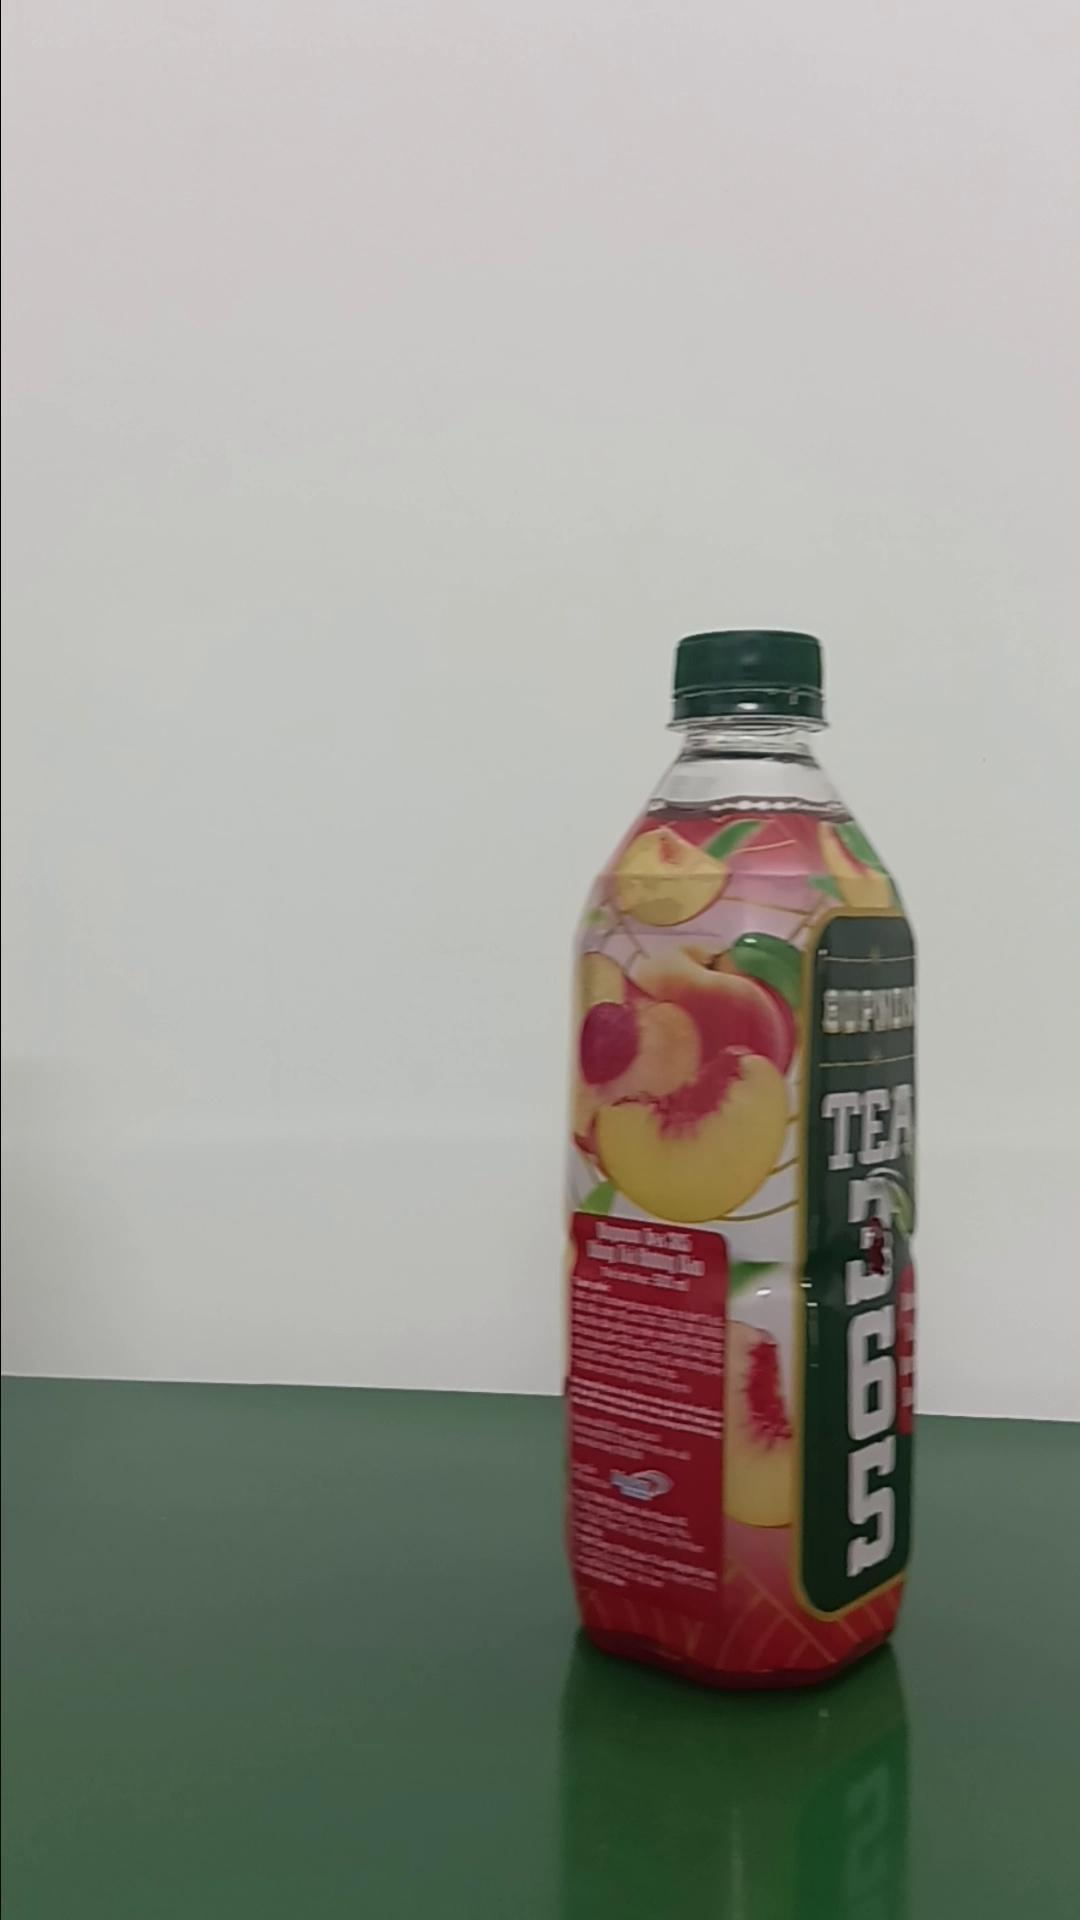loi rach va lap chai: (559, 621, 916, 1704)
